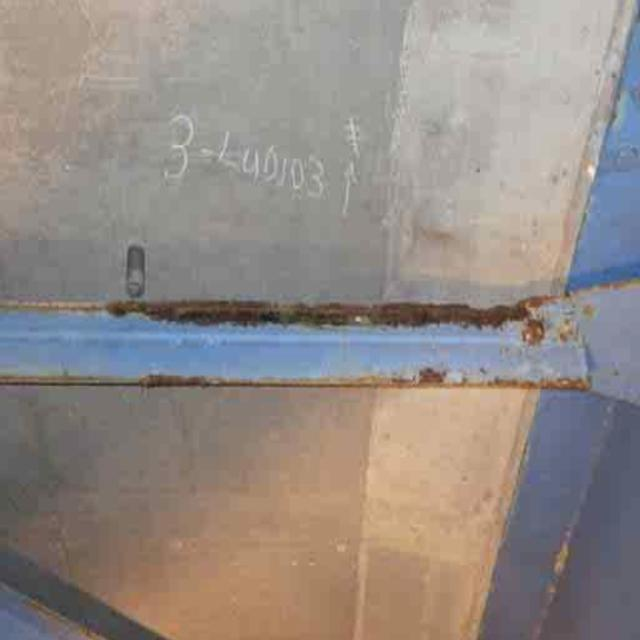corrosion: (7, 269, 602, 404)
